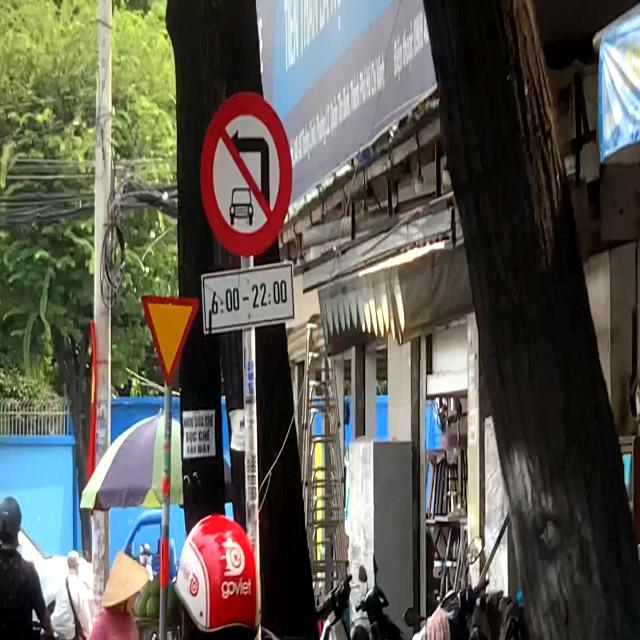Giao nhau voi duong uu tien: (140, 294, 202, 388)
